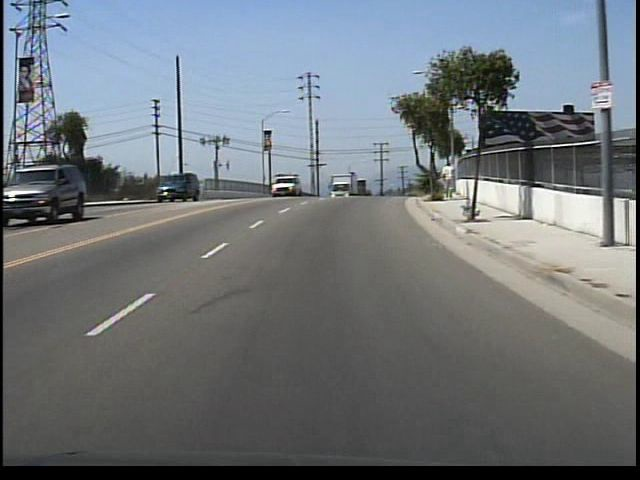person: (441, 159, 459, 201)
